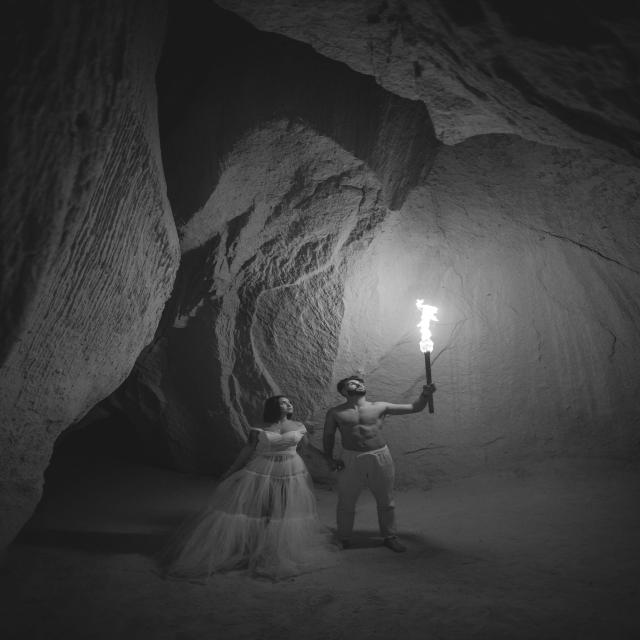stand: (208, 386, 335, 588), (307, 366, 409, 557)
